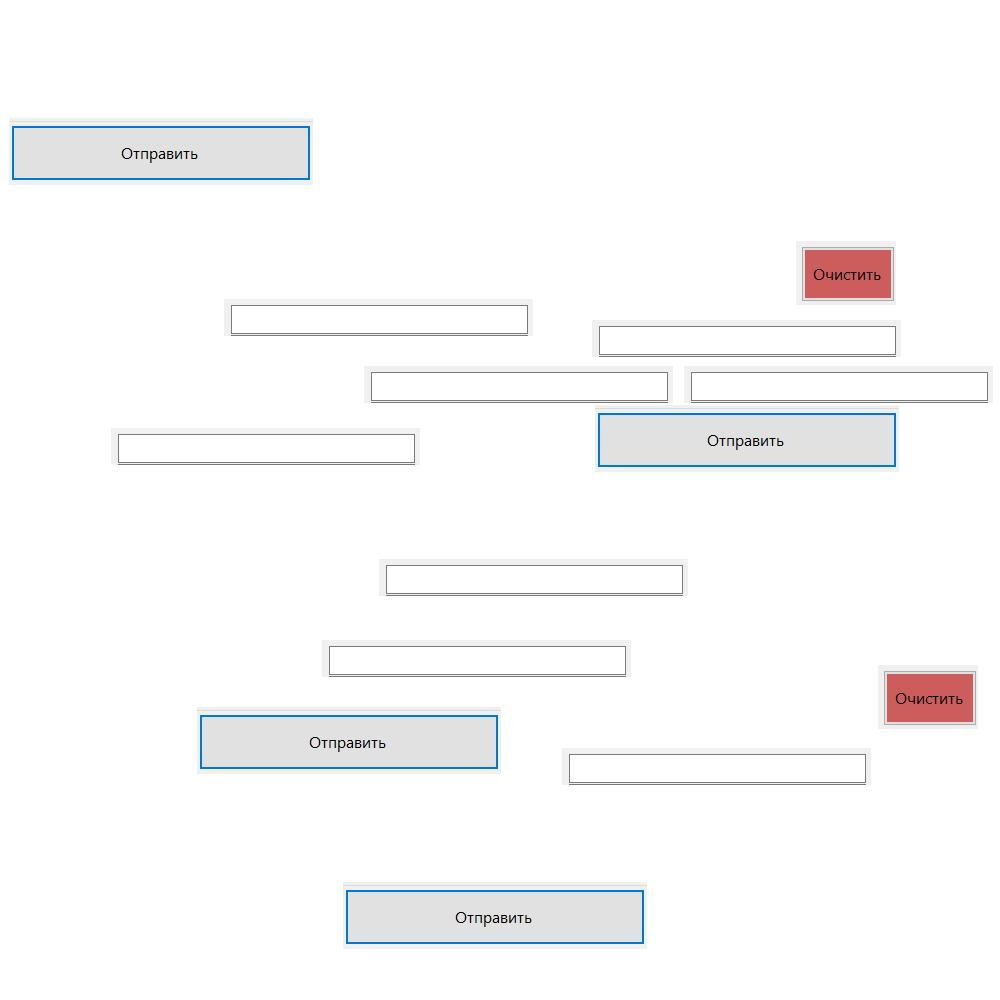Button: (9, 118, 313, 185), (595, 405, 899, 472), (197, 707, 501, 774), (343, 882, 647, 949), (878, 665, 978, 729), (796, 241, 896, 305)
EditText-: (684, 366, 993, 403), (111, 428, 420, 465), (562, 748, 871, 785), (322, 640, 631, 677), (224, 299, 533, 336), (379, 559, 688, 596), (592, 320, 901, 357), (364, 366, 673, 403)
